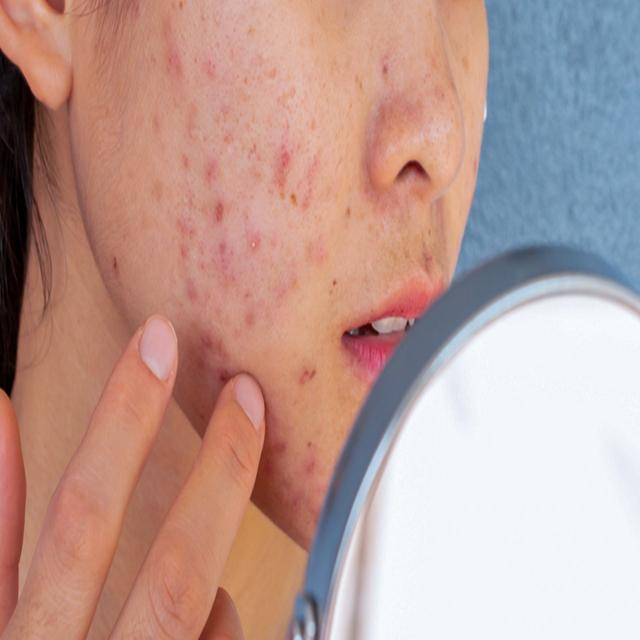Acne: (127, 263, 351, 550), (123, 0, 364, 257), (373, 5, 477, 172)
